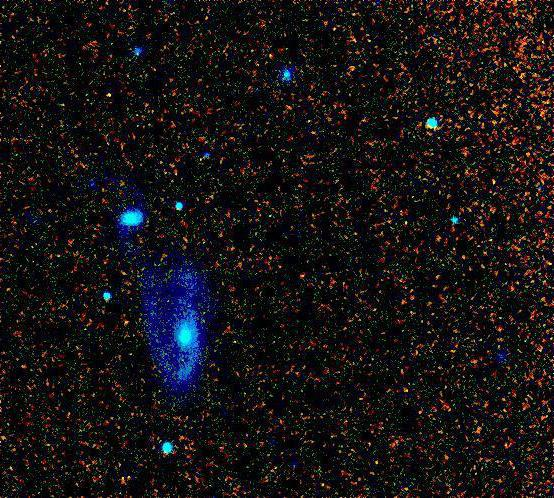star: (168, 345, 198, 375)
